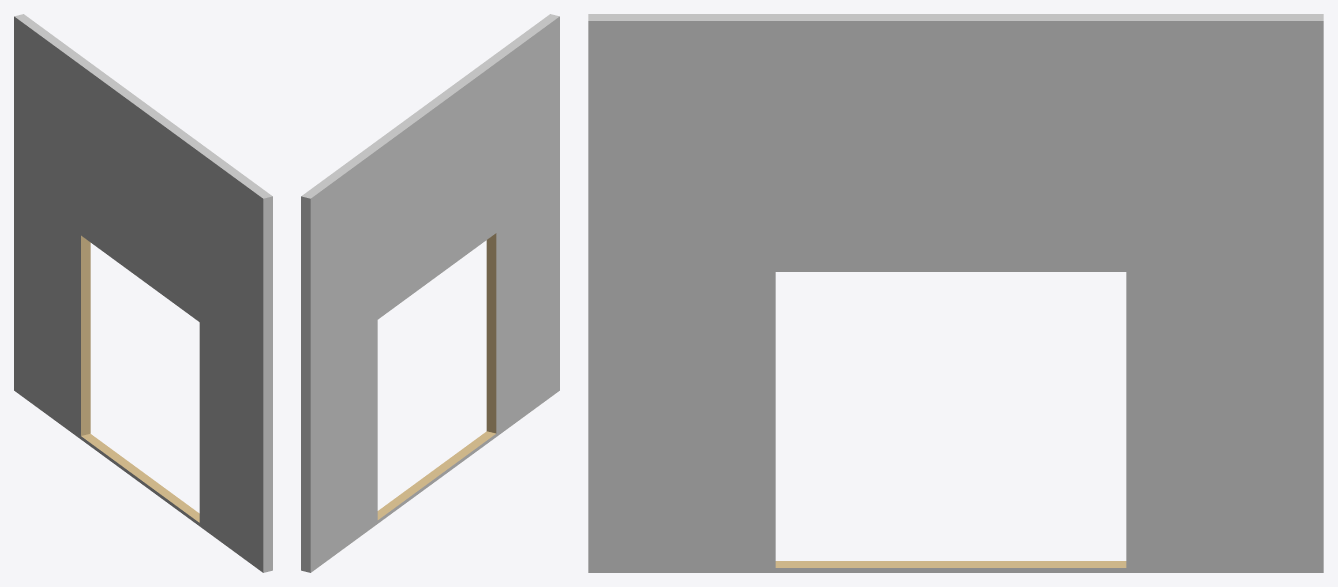
Rendered from wall4.fbx.
The picture shows the model from 3 angles, left to right: view 1: azimuth 30°, elevation 25°; view 2: azimuth 150°, elevation 25°; view 3: azimuth 270°, elevation 25°; orthographic projection. The views are drawn at different scales.
Parts seen in each view (by area): view 1: Boole_5; view 2: Boole_5; view 3: Boole_5.
Boxes of the visible parts, <box> form: Boole_5: <box>14,14,272,572</box>; Boole_5: <box>301,14,559,572</box>; Boole_5: <box>588,14,1323,572</box>.
Size of the model in its own units: 11.88 by 442 by 534.
